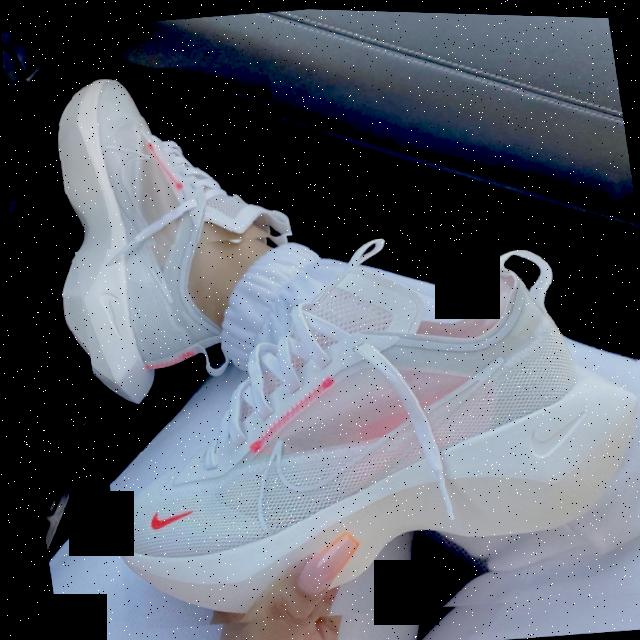shoe: (70, 193, 640, 640), (10, 53, 315, 427)
